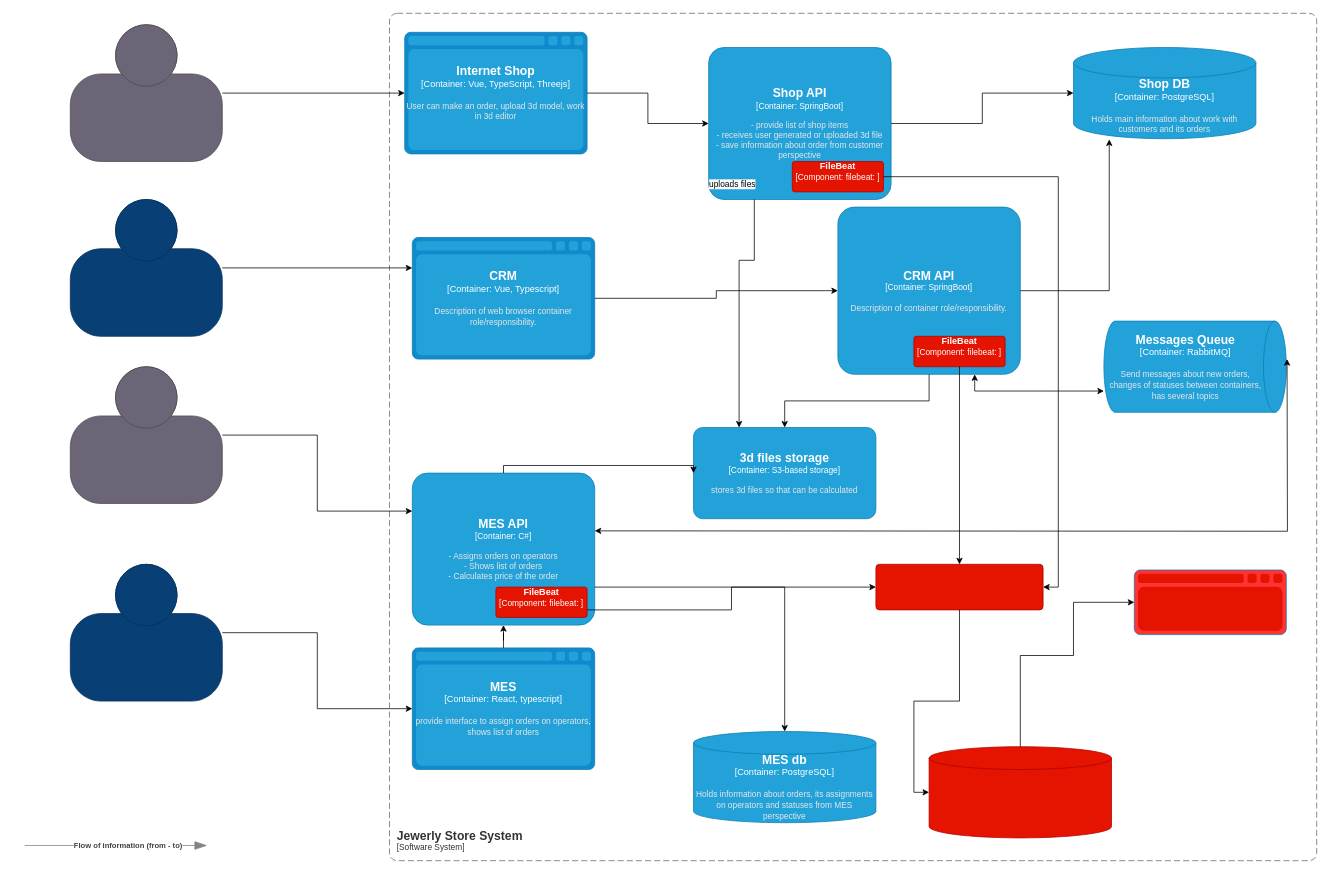
Image size: 1330x874. Some labels were removed from this diagram. The shapes that lost their labels are listed below. From the top down, each one's centre as x and y in pixels, then its label:
At [146,93]: "Customer [Person] Description of external person.".
At [146,267]: "Seller [Person] Operates with order, confirms manufacturing for the user".
At [146,435]: "API user [Person] Description of external person.".
At [959,587]: "LogStashCollector [Container: logstash]".
At [1210,602]: "Kibana [Container: kibana]".
At [146,632]: "Operator [Person] Takes order in work, manufactures jewerly".
At [1020,792]: "ElasticSearchDataStorage [Container: elasticsearch] Store log information".
